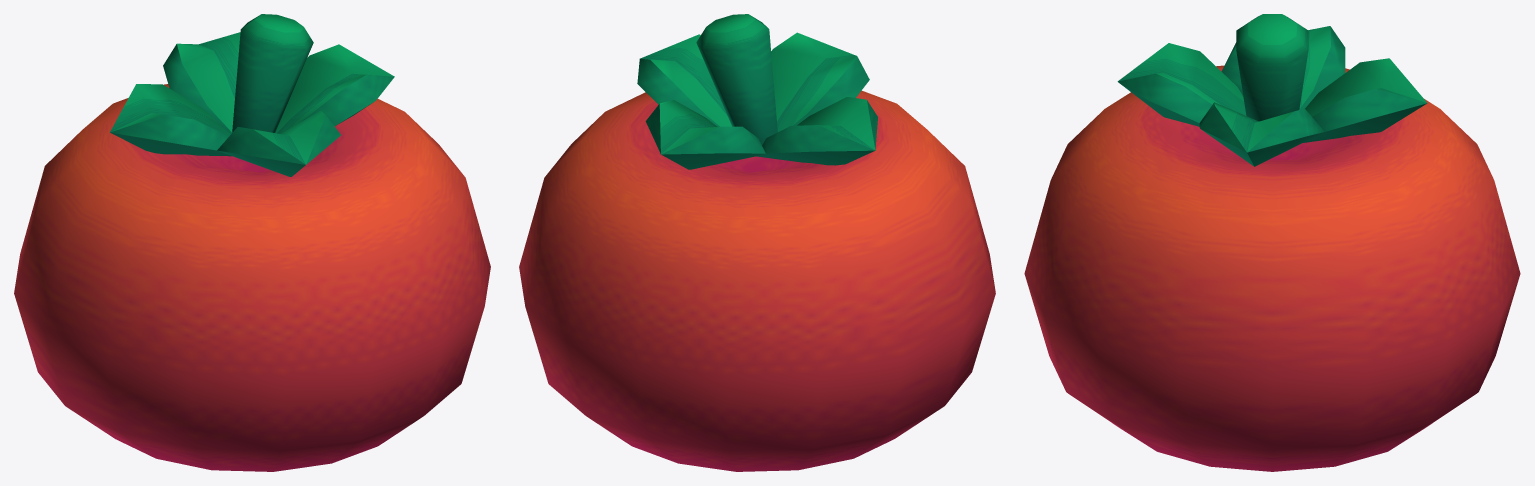
Rendered from food_ingredient_tomato.gltf.
3 renders of one model, left to right at view 1: azimuth 30°, elevation 25°; view 2: azimuth 150°, elevation 25°; view 3: azimuth 270°, elevation 25°, orthographic. The views are drawn at different scales.
Visible parts, largest first — view 1: food_ingredient_tomato; view 2: food_ingredient_tomato; view 3: food_ingredient_tomato.
Part boxes in pixels (x1,y1,x2,y2): food_ingredient_tomato: (14,14,490,471); food_ingredient_tomato: (519,14,995,471); food_ingredient_tomato: (1024,14,1520,471).
Bounding box in the file's own units: 0.75 × 0.7 × 0.75.
1 material, 1 textured.
